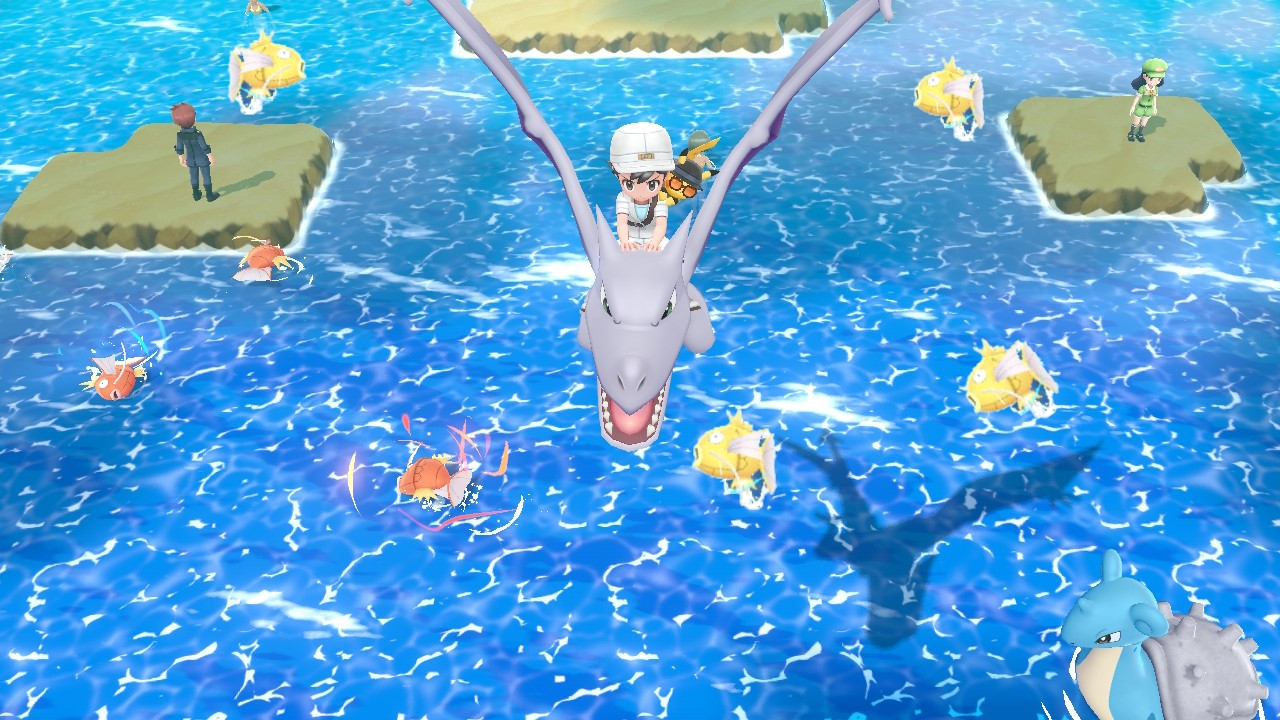Golden: (959, 337, 1060, 423), (691, 412, 778, 495), (225, 29, 307, 109), (914, 65, 988, 133)
